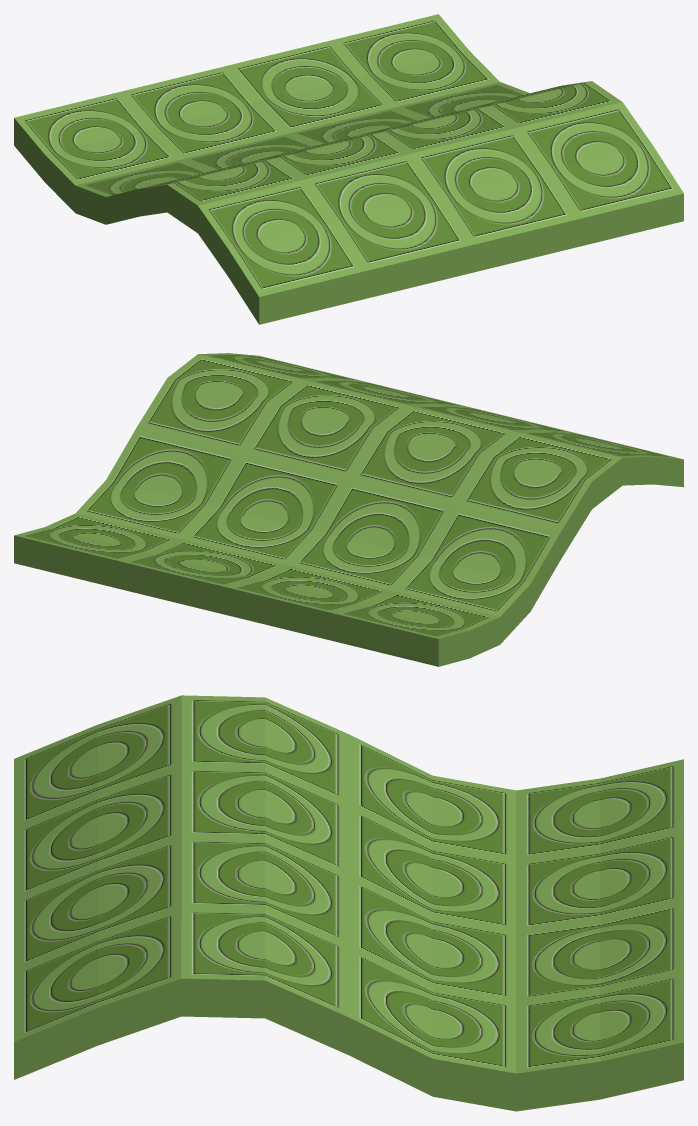
Rendered from CurvedTile.fbx.
3 renders of one model, top to bottom at view 1: azimuth 30°, elevation 25°; view 2: azimuth 150°, elevation 25°; view 3: azimuth 270°, elevation 25°, orthographic. The views are drawn at different scales.
Visible parts, largest first — view 1: 4x4; view 2: 4x4; view 3: 4x4.
Boxes of the visible parts, <box> form: 4x4: <box>14,14,683,324</box>; 4x4: <box>14,353,683,666</box>; 4x4: <box>14,695,683,1111</box>.
Size of the model in its own units: 800 by 175 by 800.
